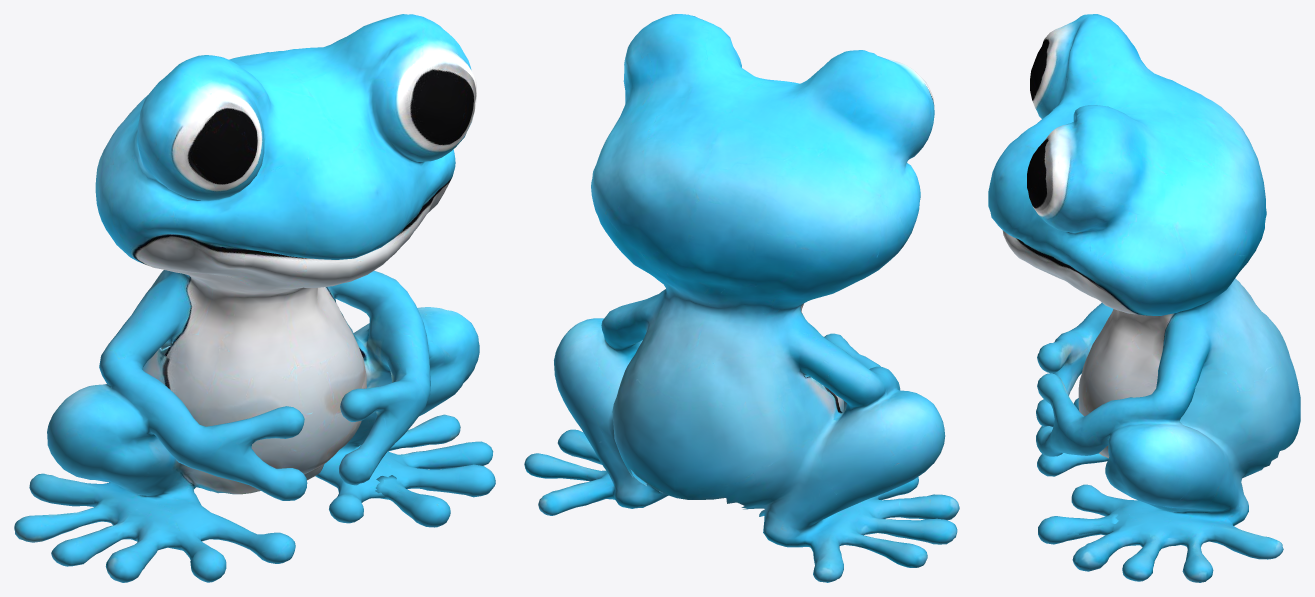
Rendered from frog_blue_v1.glb.
3 renders of one model, left to right at view 1: azimuth 30°, elevation 25°; view 2: azimuth 150°, elevation 25°; view 3: azimuth 270°, elevation 25°, orthographic. The views are drawn at different scales.
Bounding box in the file's own units: 1.77 × 1.9 × 1.23.
1 material, 1 textured.
